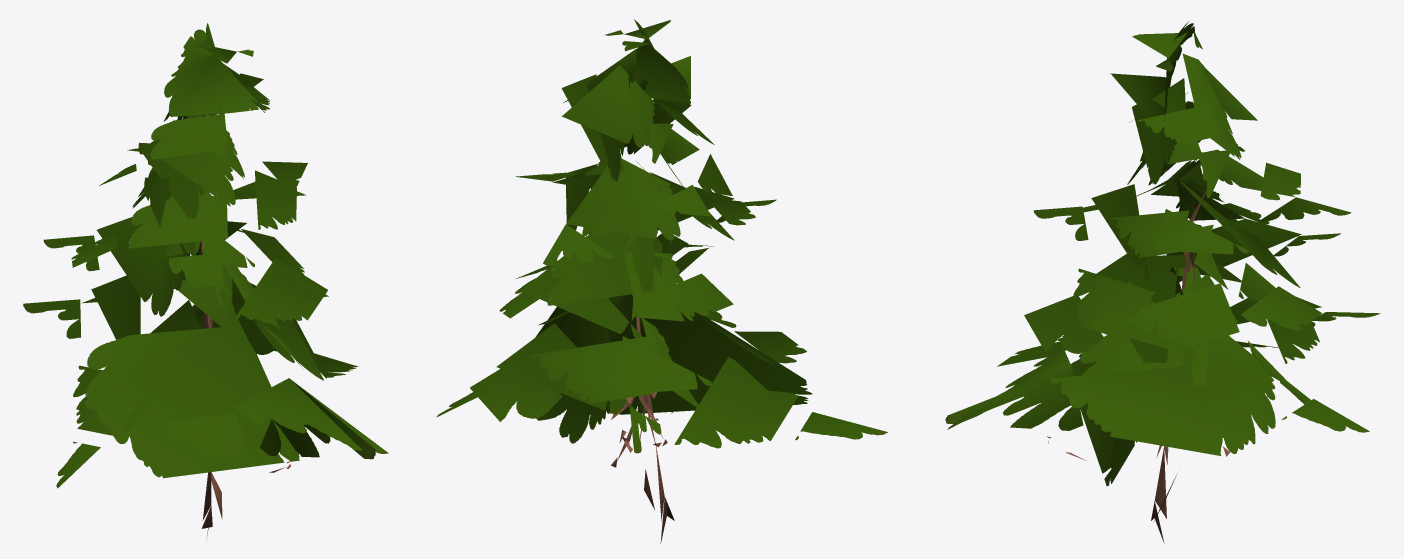
The model's file is pinus-1-lod.glb.
The picture shows the model from 3 angles, left to right: view 1: azimuth 30°, elevation 25°; view 2: azimuth 150°, elevation 25°; view 3: azimuth 270°, elevation 25°; orthographic projection. The views are drawn at different scales.
Parts seen in each view (by area): view 1: Pine_2; view 2: Pine_2; view 3: Pine_2.
Part boxes in pixels (x1,y1,x2,y2): Pine_2: (23, 23, 388, 540); Pine_2: (436, 19, 887, 543); Pine_2: (945, 21, 1380, 543).
Bounding box in the file's own units: 7.98 × 12.29 × 9.53.
2 materials, 2 textured.
